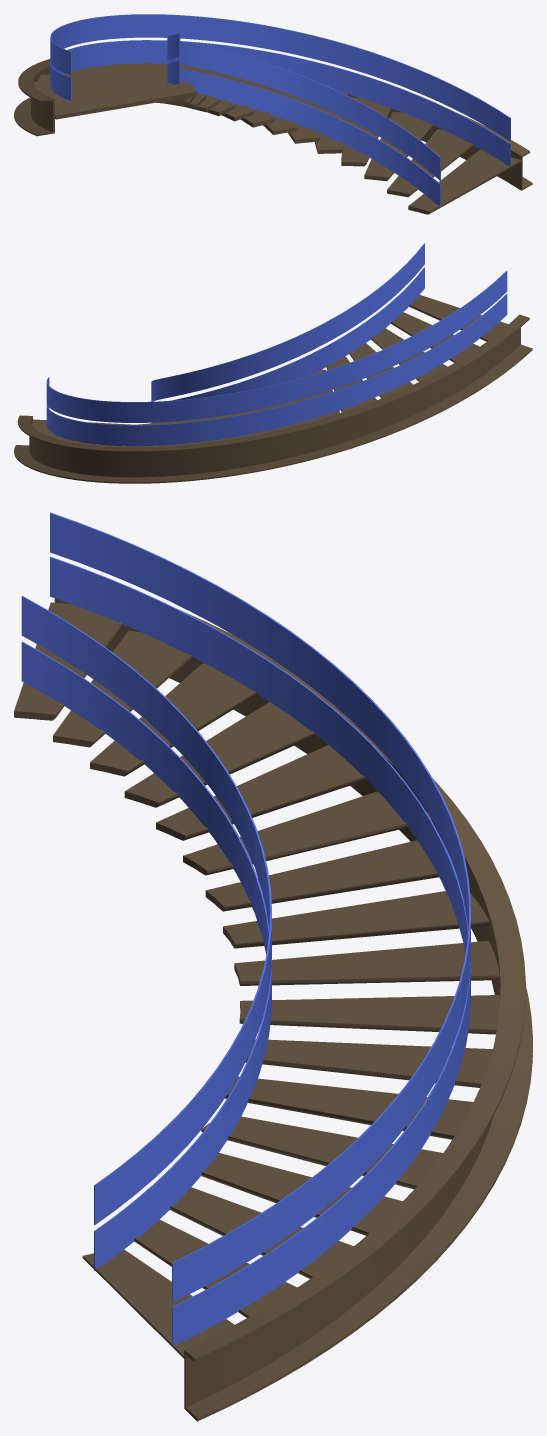
Rendered from Stair_Low.FBX.
3 views of the same model, one above another, from view 1: azimuth 30°, elevation 25°; view 2: azimuth 150°, elevation 25°; view 3: azimuth 270°, elevation 25° (orthographic). The views are drawn at different scales.
Visible parts, largest first — view 1: Object001; view 2: Object001; view 3: Object001.
Boxes of the visible parts, x1,y1,x2,y2 form: Object001: (14,14,532,214); Object001: (14,243,532,483); Object001: (14,512,532,1421).
Bounding box in the file's own units: 7.42 × 3.8 × 3.65.
